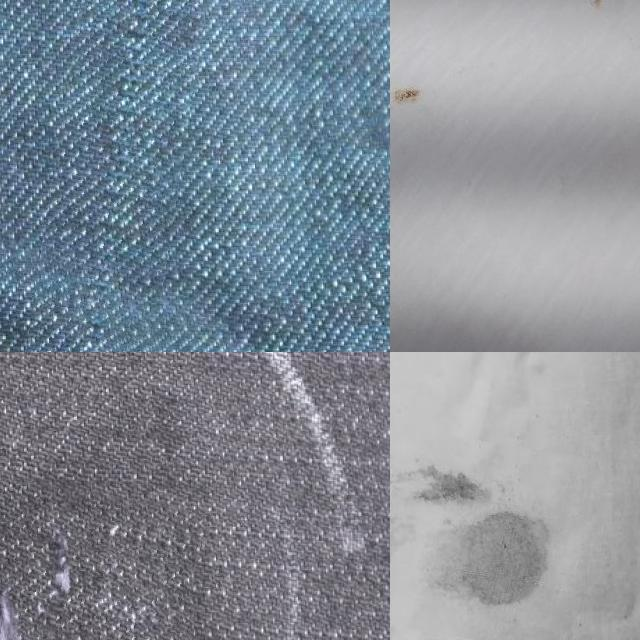Hole: (390, 429, 589, 640), (390, 62, 452, 135), (567, 0, 625, 29)
Thread_other: (42, 0, 217, 352), (0, 482, 202, 640)
